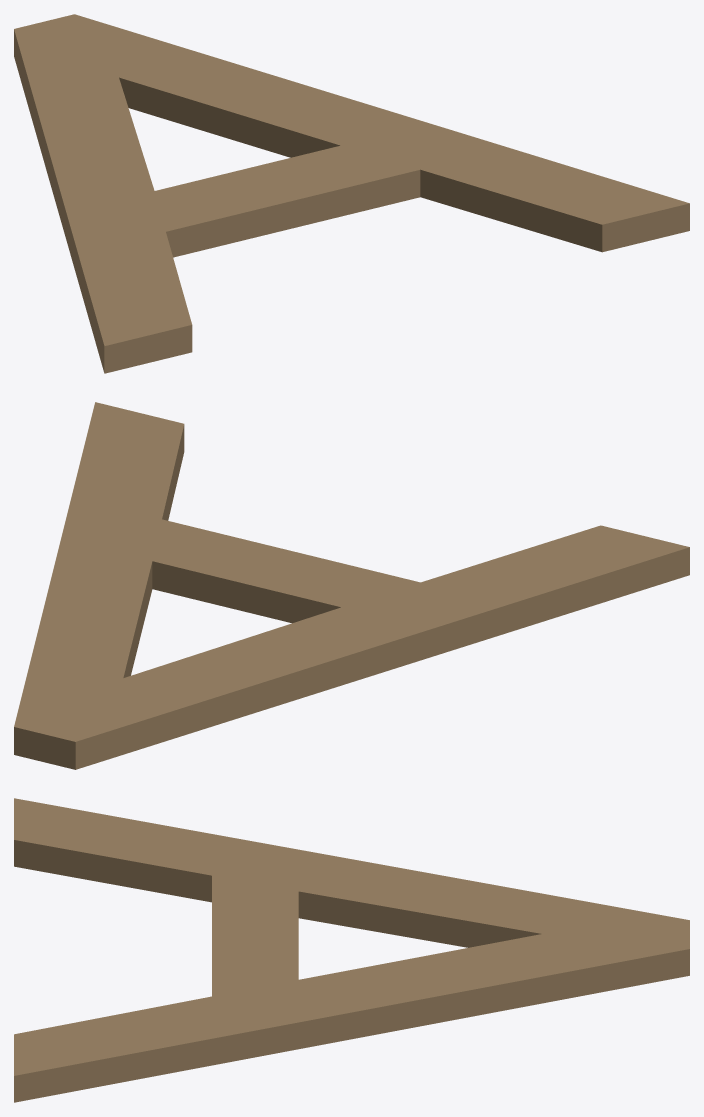
3 views of the same model, one above another, from view 1: azimuth 30°, elevation 25°; view 2: azimuth 150°, elevation 25°; view 3: azimuth 270°, elevation 25° (orthographic). The views are drawn at different scales.
Parts seen in each view (by area): view 1: Text; view 2: Text; view 3: Text.
Boxes of the visible parts, left/top/right/bottom form: Text: left=14, top=14, right=689, bottom=373; Text: left=14, top=402, right=689, bottom=769; Text: left=14, top=798, right=689, bottom=1102.
Size of the model in its own units: 35.07 by 1.58 by 36.07.
